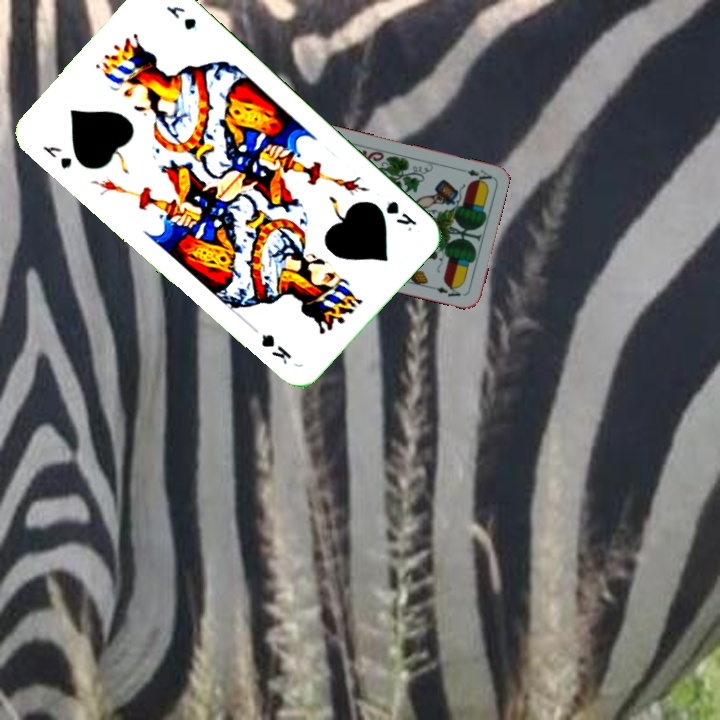EA: (454, 164, 494, 185)
GK: (381, 196, 420, 234), (38, 142, 75, 172)
